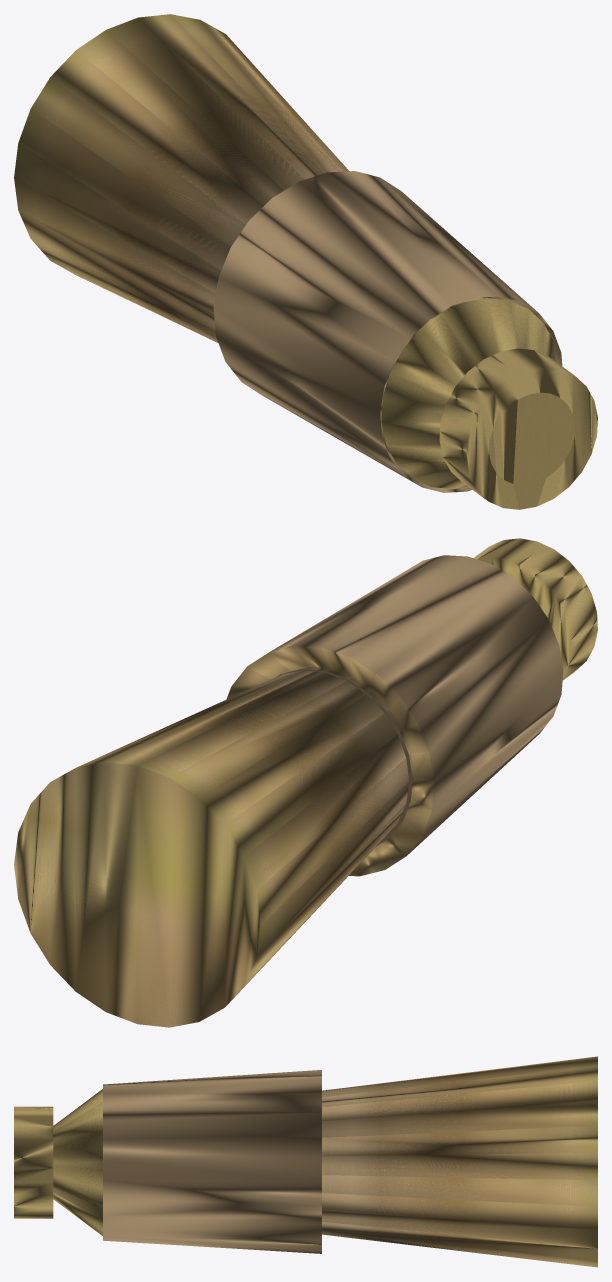
Rendered from model_align.obj.
3 views of the same model, one above another, from view 1: azimuth 30°, elevation 25°; view 2: azimuth 150°, elevation 25°; view 3: azimuth 270°, elevation 25° (orthographic). The views are drawn at different scales.
Bounding box in the file's own units: 0.0958 × 0.0958 × 0.264.
